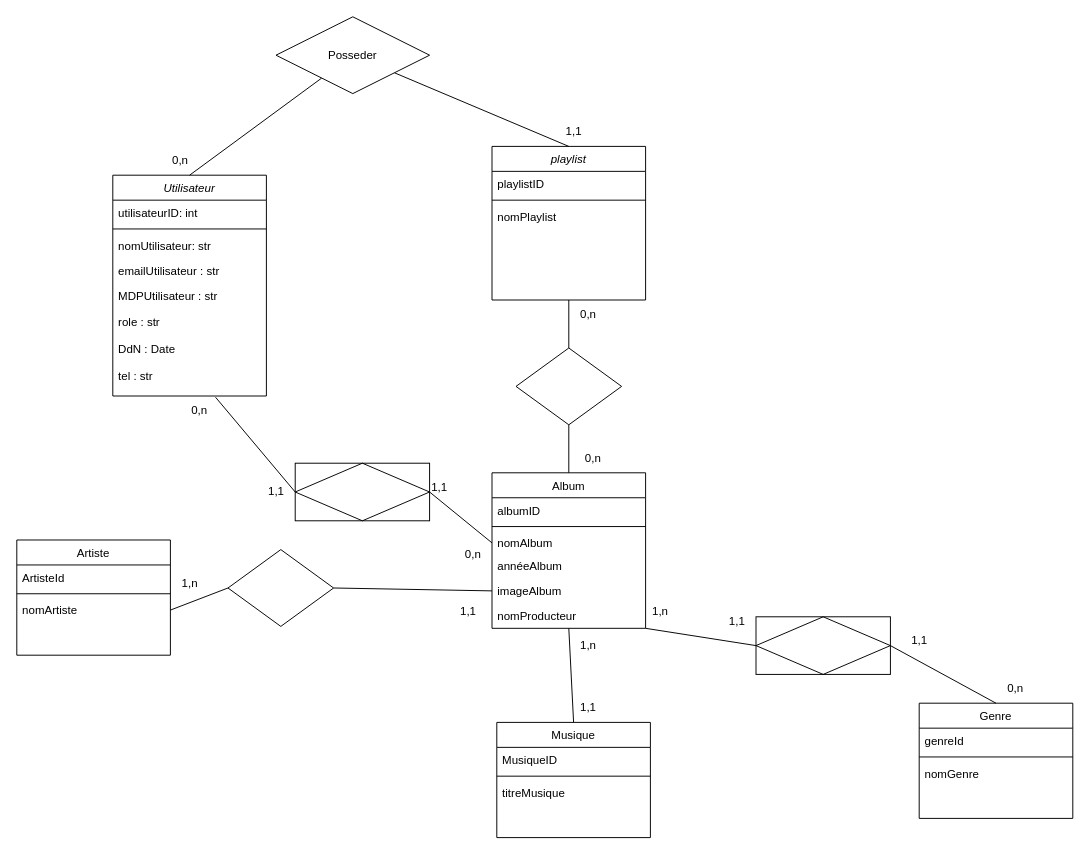
This 1090x854 diagram has some shape labels left out. The centre of each missing label's shape, as x and y in pixels:
Composer: point (280, 587)
GenreAlbum: point (822, 645)
Noter note: point (362, 491)
PlaylistAlbum: point (568, 386)
